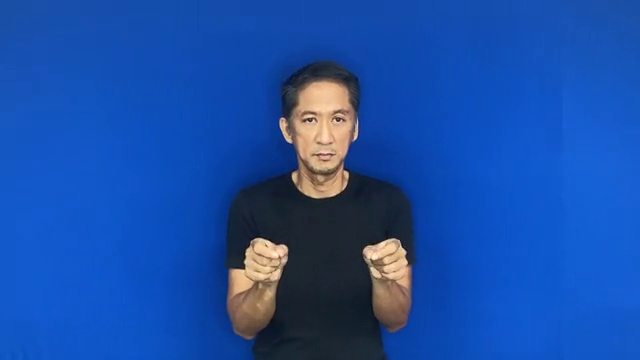crab: (234, 230, 415, 293)
